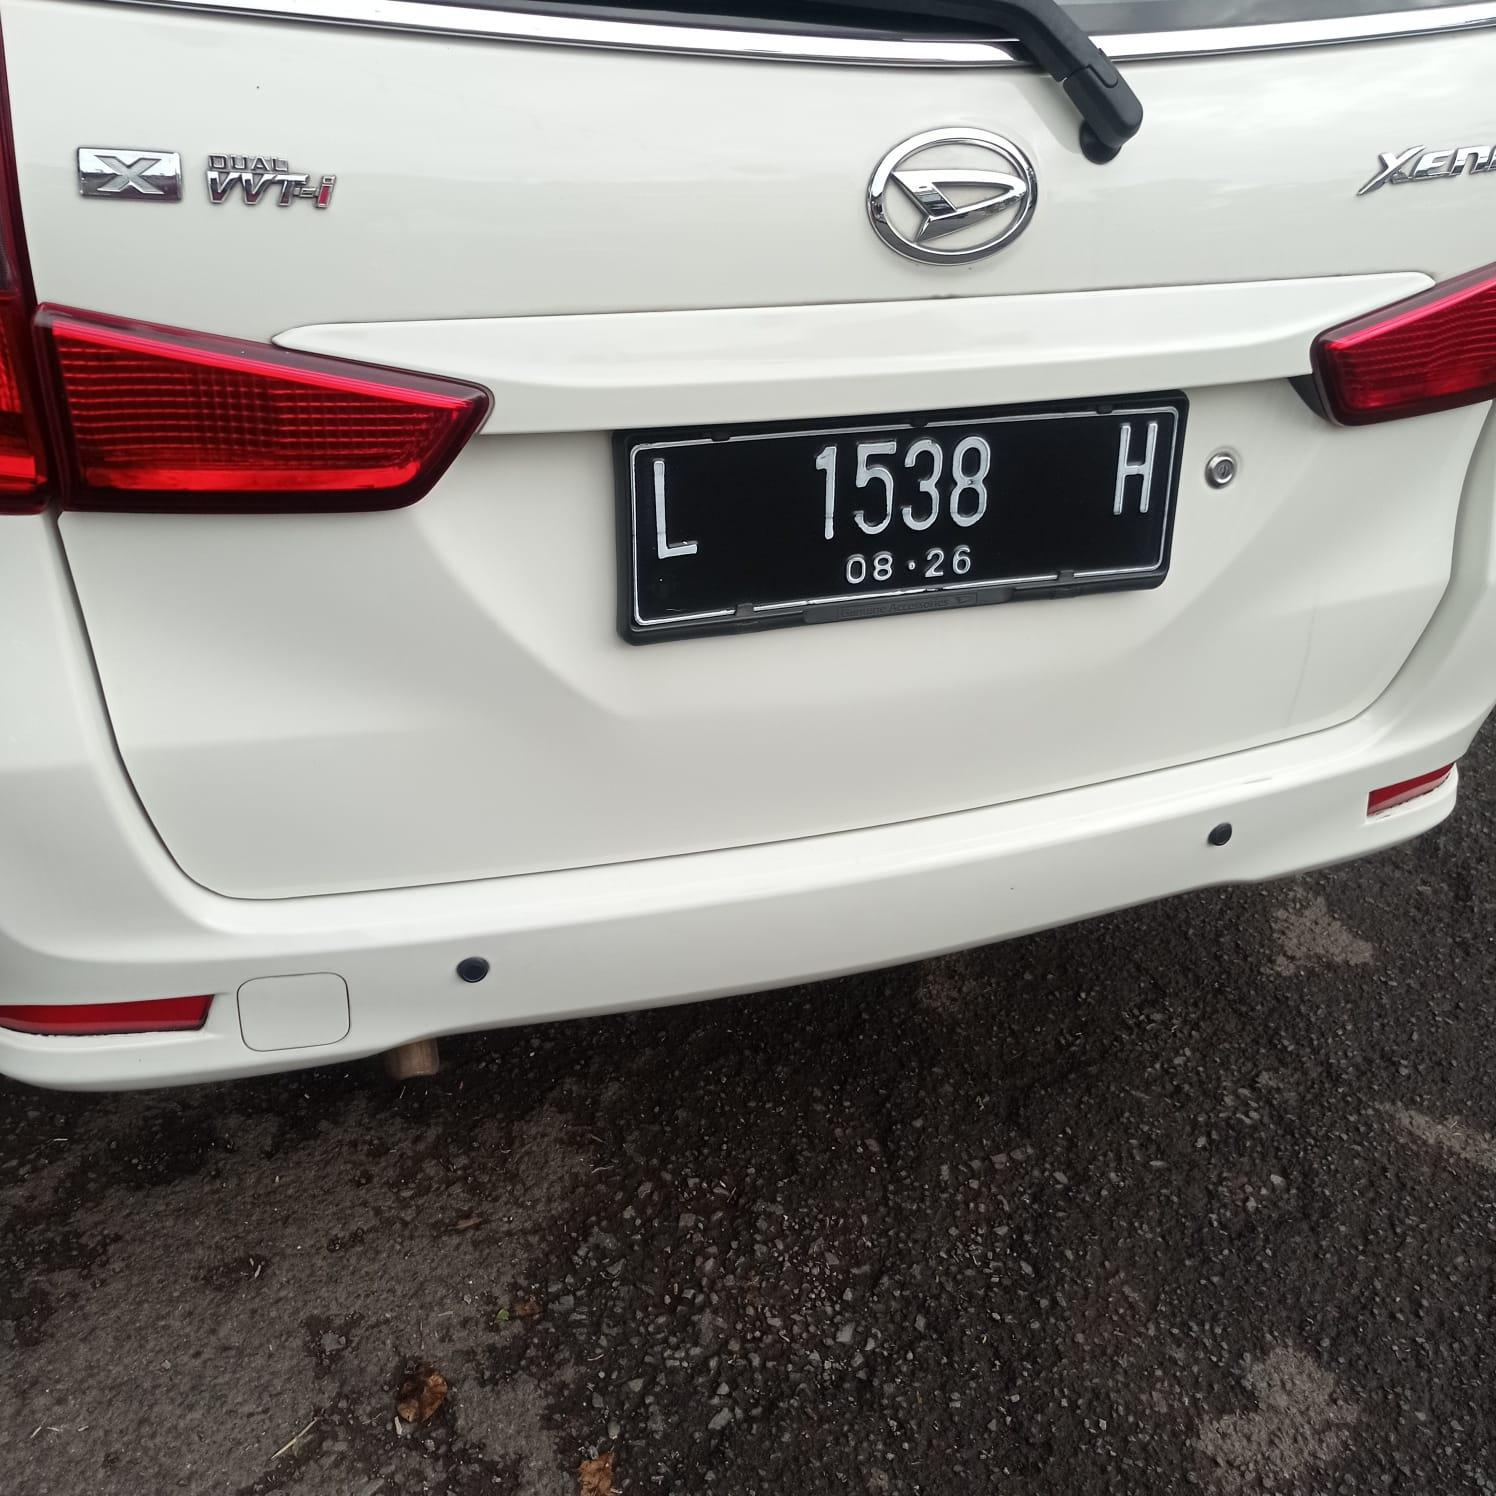plat: (619, 395, 1186, 643)
